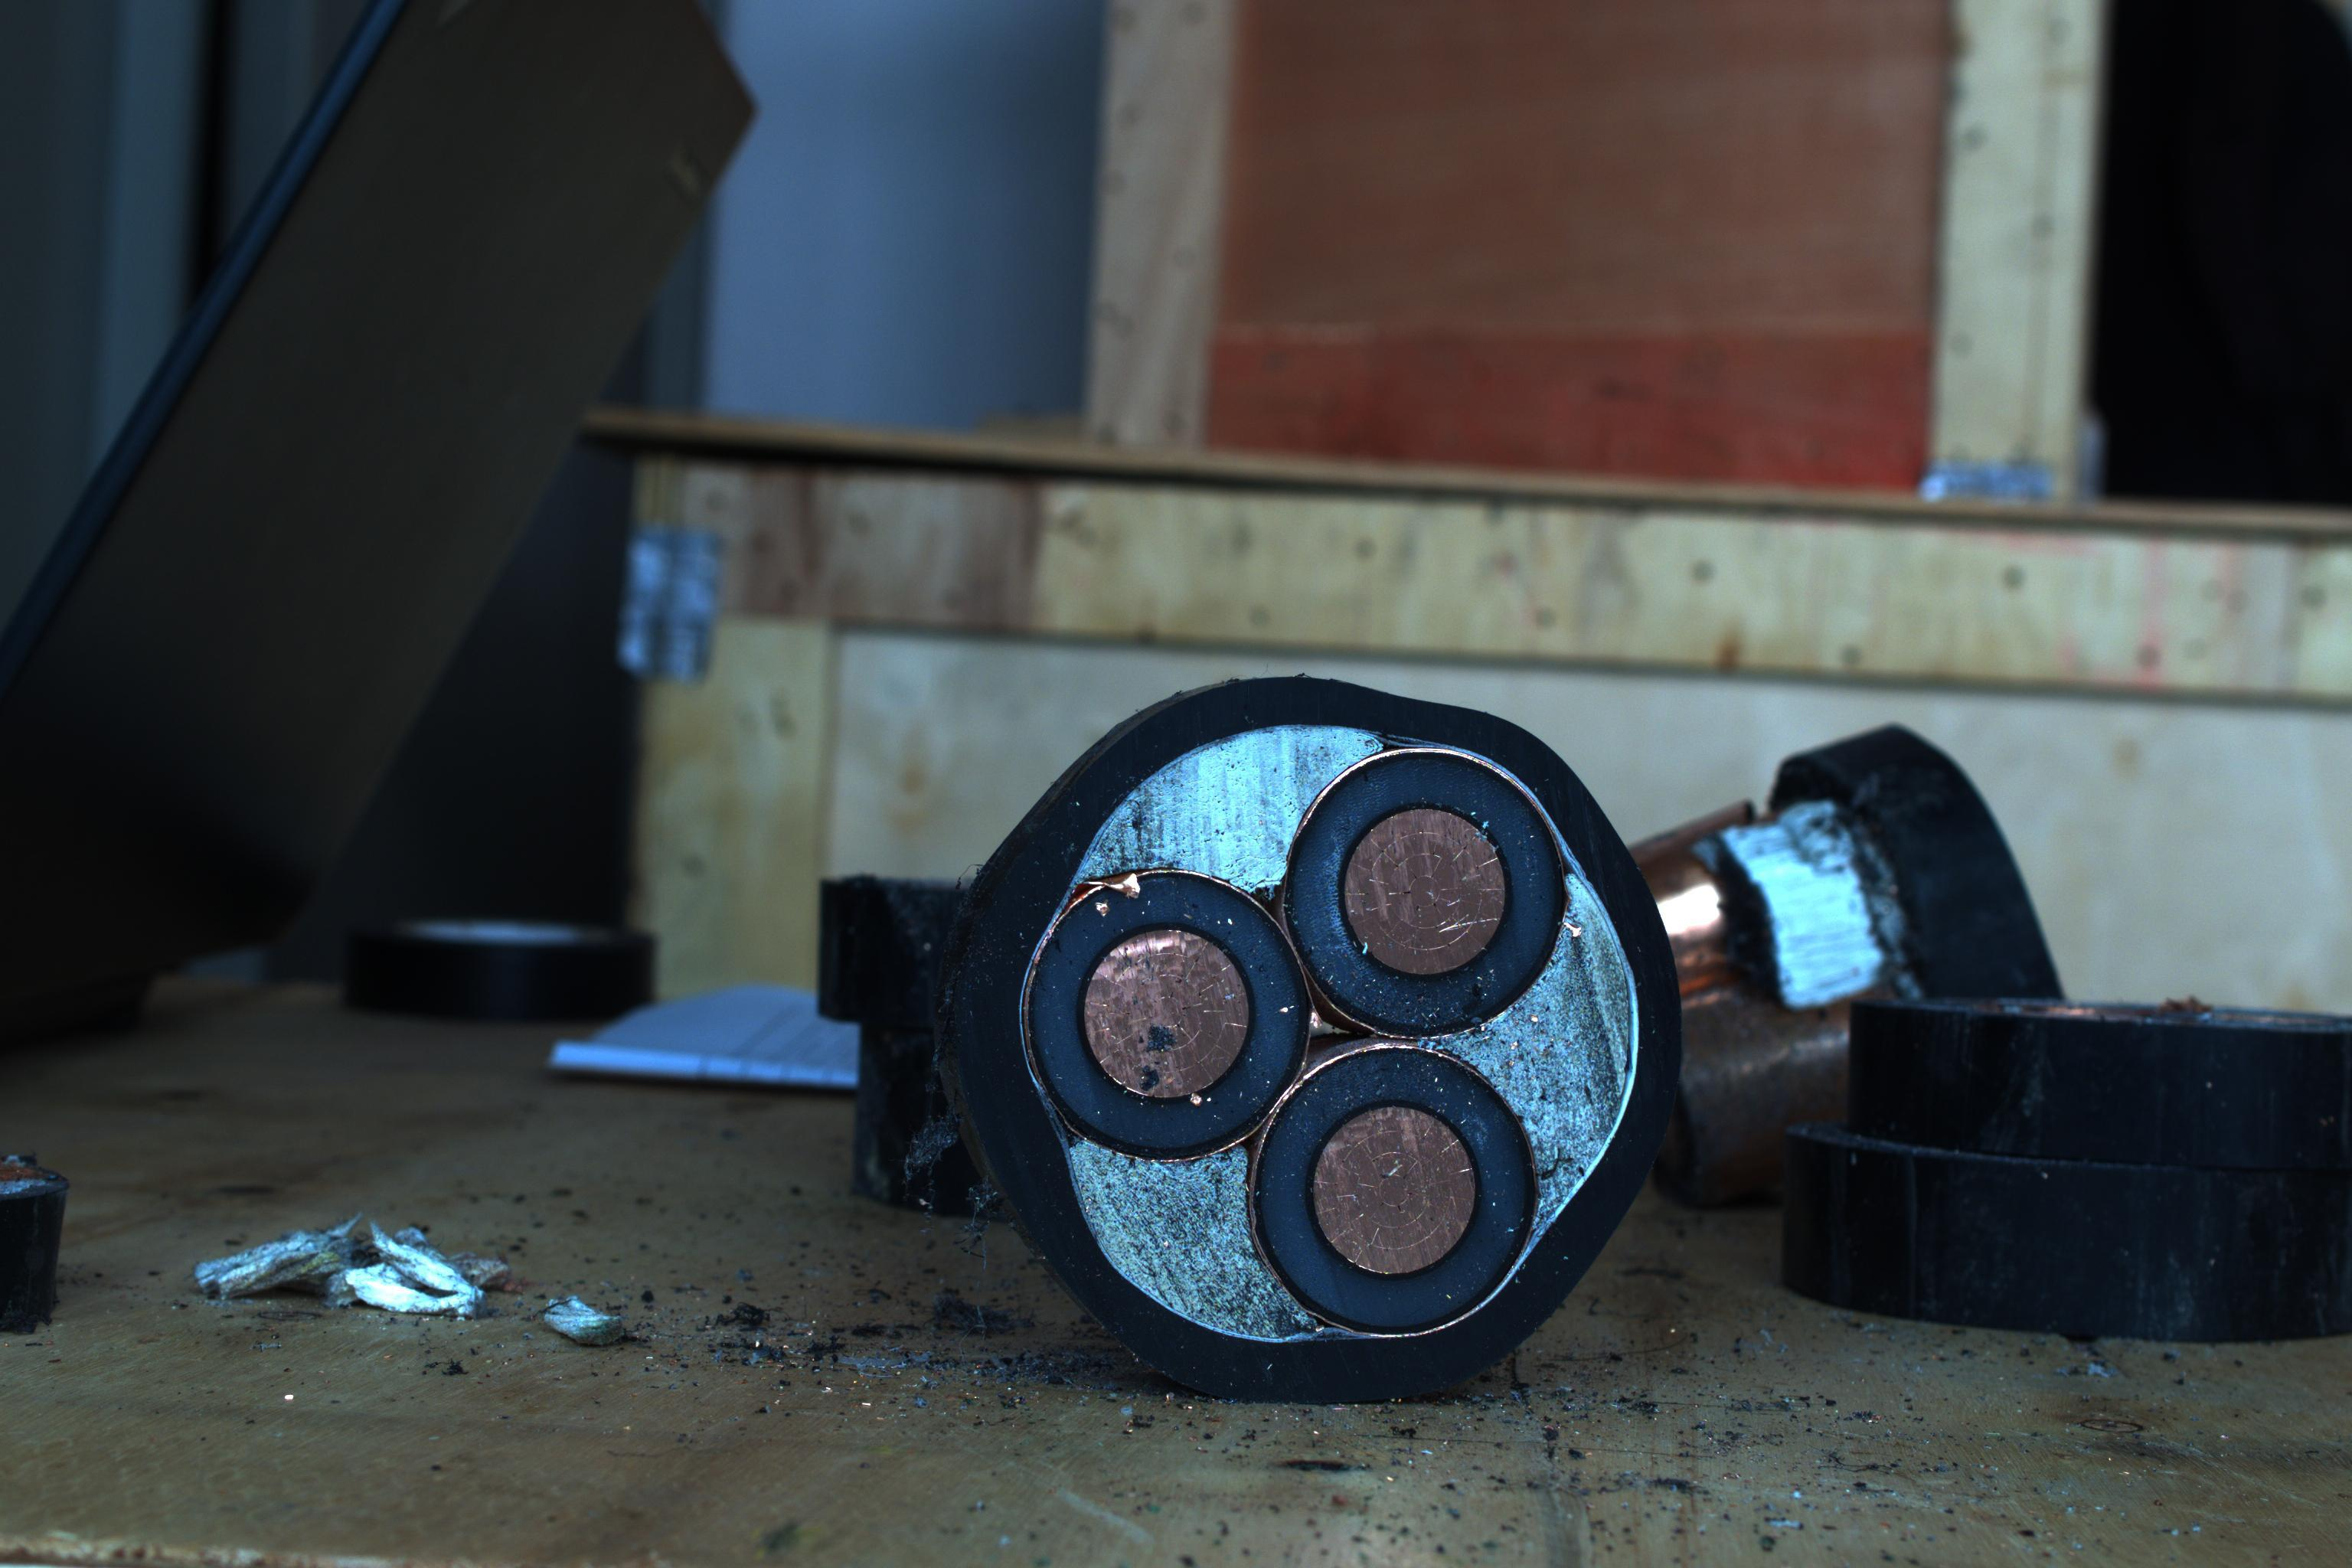ZA_YJV_8.7_10kV_3x240: (976, 684, 1659, 1389)
